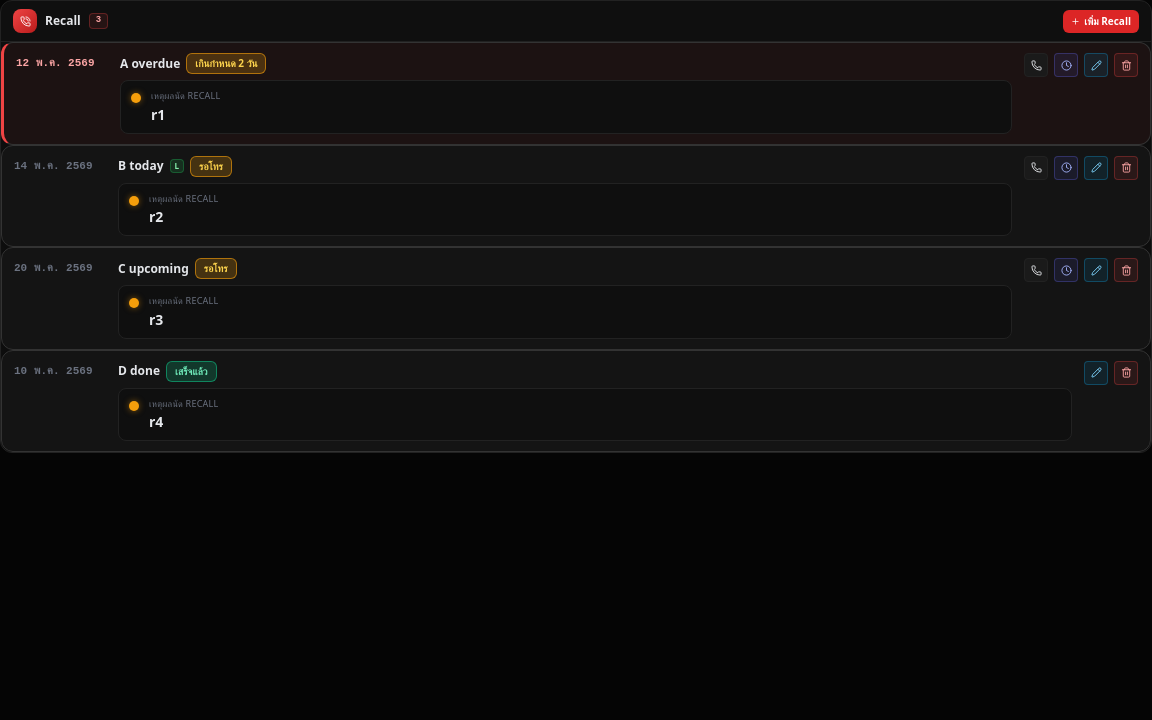
Test: Phase 29 · CDV4 add flow + empty + loading + error › CDV4.1 + เพิ่ม Recall opens create modal pre-filled with customer
Click the button with test id "recall-card-add" at [1101, 21], box [1063,10,1139,32]
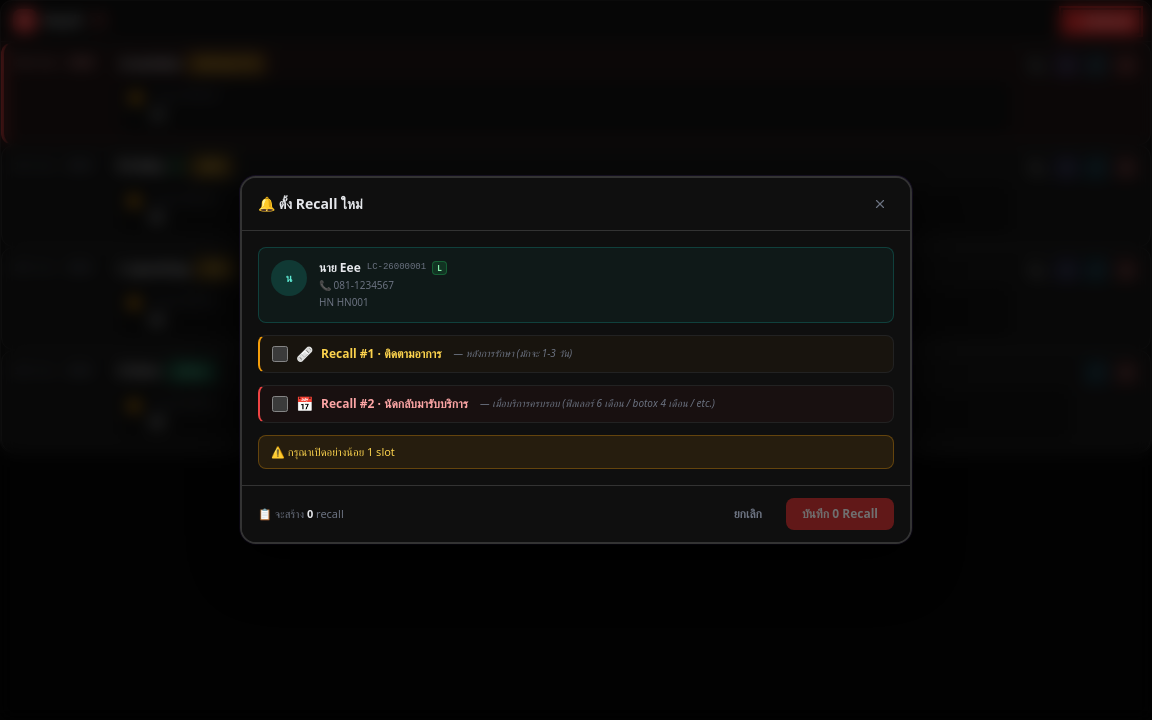
Result: the element with test id "recall-create-modal" is shown
Result: the element with test id "recall-create-modal" shows "นาย Eee" at [319,259,361,276]
Result: the element with test id "recall-create-modal" shows "LC-26000001" at [367,262,426,272]
